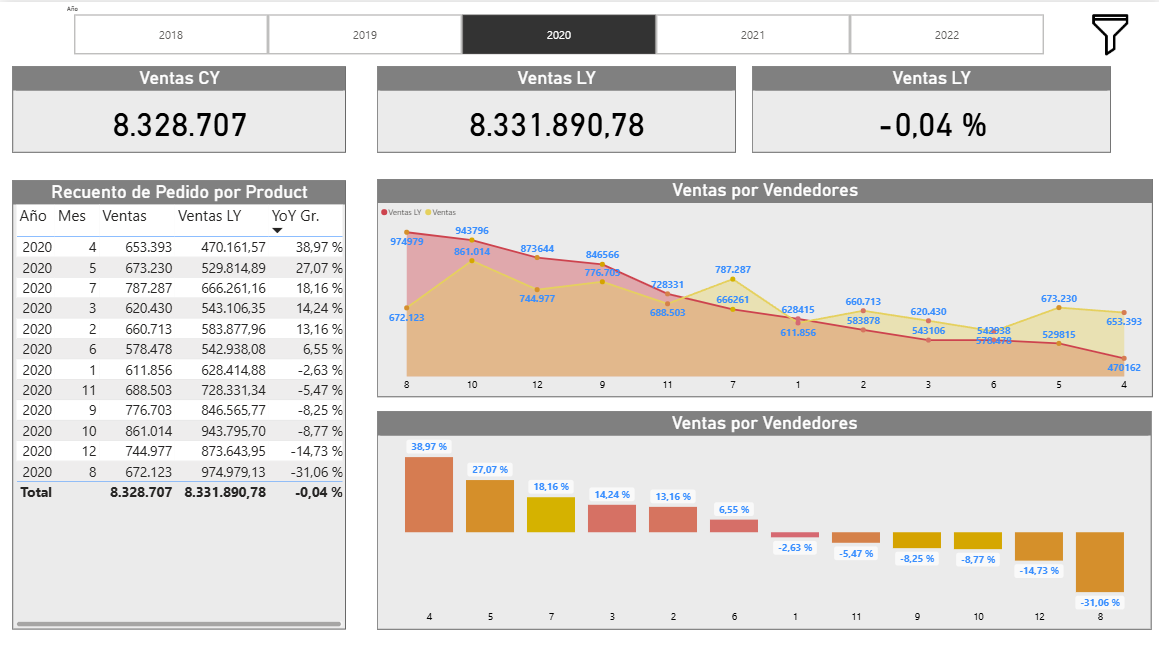

The dashboard page shown, as its layout file describes it:
{"tool":"powerbi","page":{"name":"Comparativa Anual","canvas":[1940,1080],"ordinal":4},"visuals":[{"type":"tableEx","title":"Recuento de Pedido por Product","fields":{"Values":["Calendario.Año","Calendario.Mes","Medidas.Ventas","Medidas.Ventas LY","Medidas.YoY Gr."]},"box":[22,297,555.6,748.1],"z":0},{"type":"card","title":"Ventas CY","fields":{"Values":["Medidas.Ventas"]},"box":[22,106.3,555.6,143],"z":1000},{"type":"card","title":"Ventas LY","fields":{"Values":["Medidas.Ventas LY"]},"box":[628.9,106.3,597.8,143],"z":2000},{"type":"areaChart","title":"Ventas por Vendedores","fields":{"Category":["Calendario.Mes"],"Y":["Medidas.Ventas LY","Medidas.Ventas"]},"box":[628.9,295.2,1292.7,363.1],"z":3000},{"type":"image","title":"Ver filtros","box":[1802.9,15.3,99.3,78.9],"z":5000},{"type":"slicer","fields":{"Values":["Calendario.Año"]},"box":[100.8,0,1664.9,93.5],"z":7000},{"type":"card","title":"Ventas LY","fields":{"Values":["Medidas.YoY Gr."]},"box":[1254.2,106.3,597.8,143],"z":8000},{"type":"lineStackedColumnComboChart","title":"Ventas por Vendedores","fields":{"Y":["Medidas.YoY Gr."],"Category":["Calendario.Mes"]},"box":[628.9,682.1,1290.9,363.1],"z":9001}]}

Visuals, with their boxes in screenshot pixels (x1, y1, x2, y2), scaled from the page's 1940x1080 canvas onto the 1159x645 screenshot:
"Recuento de Pedido por Product" tableEx: locate(13, 177, 345, 624)
"Ventas CY" card: locate(13, 63, 345, 149)
"Ventas LY" card: locate(376, 63, 733, 149)
"Ventas por Vendedores" areaChart: locate(376, 176, 1148, 393)
"Ver filtros" image: locate(1077, 9, 1136, 56)
slicer - Calendario.Año: locate(60, 0, 1055, 56)
"Ventas LY" card: locate(749, 63, 1106, 149)
"Ventas por Vendedores" lineStackedColumnComboChart: locate(376, 407, 1147, 624)
